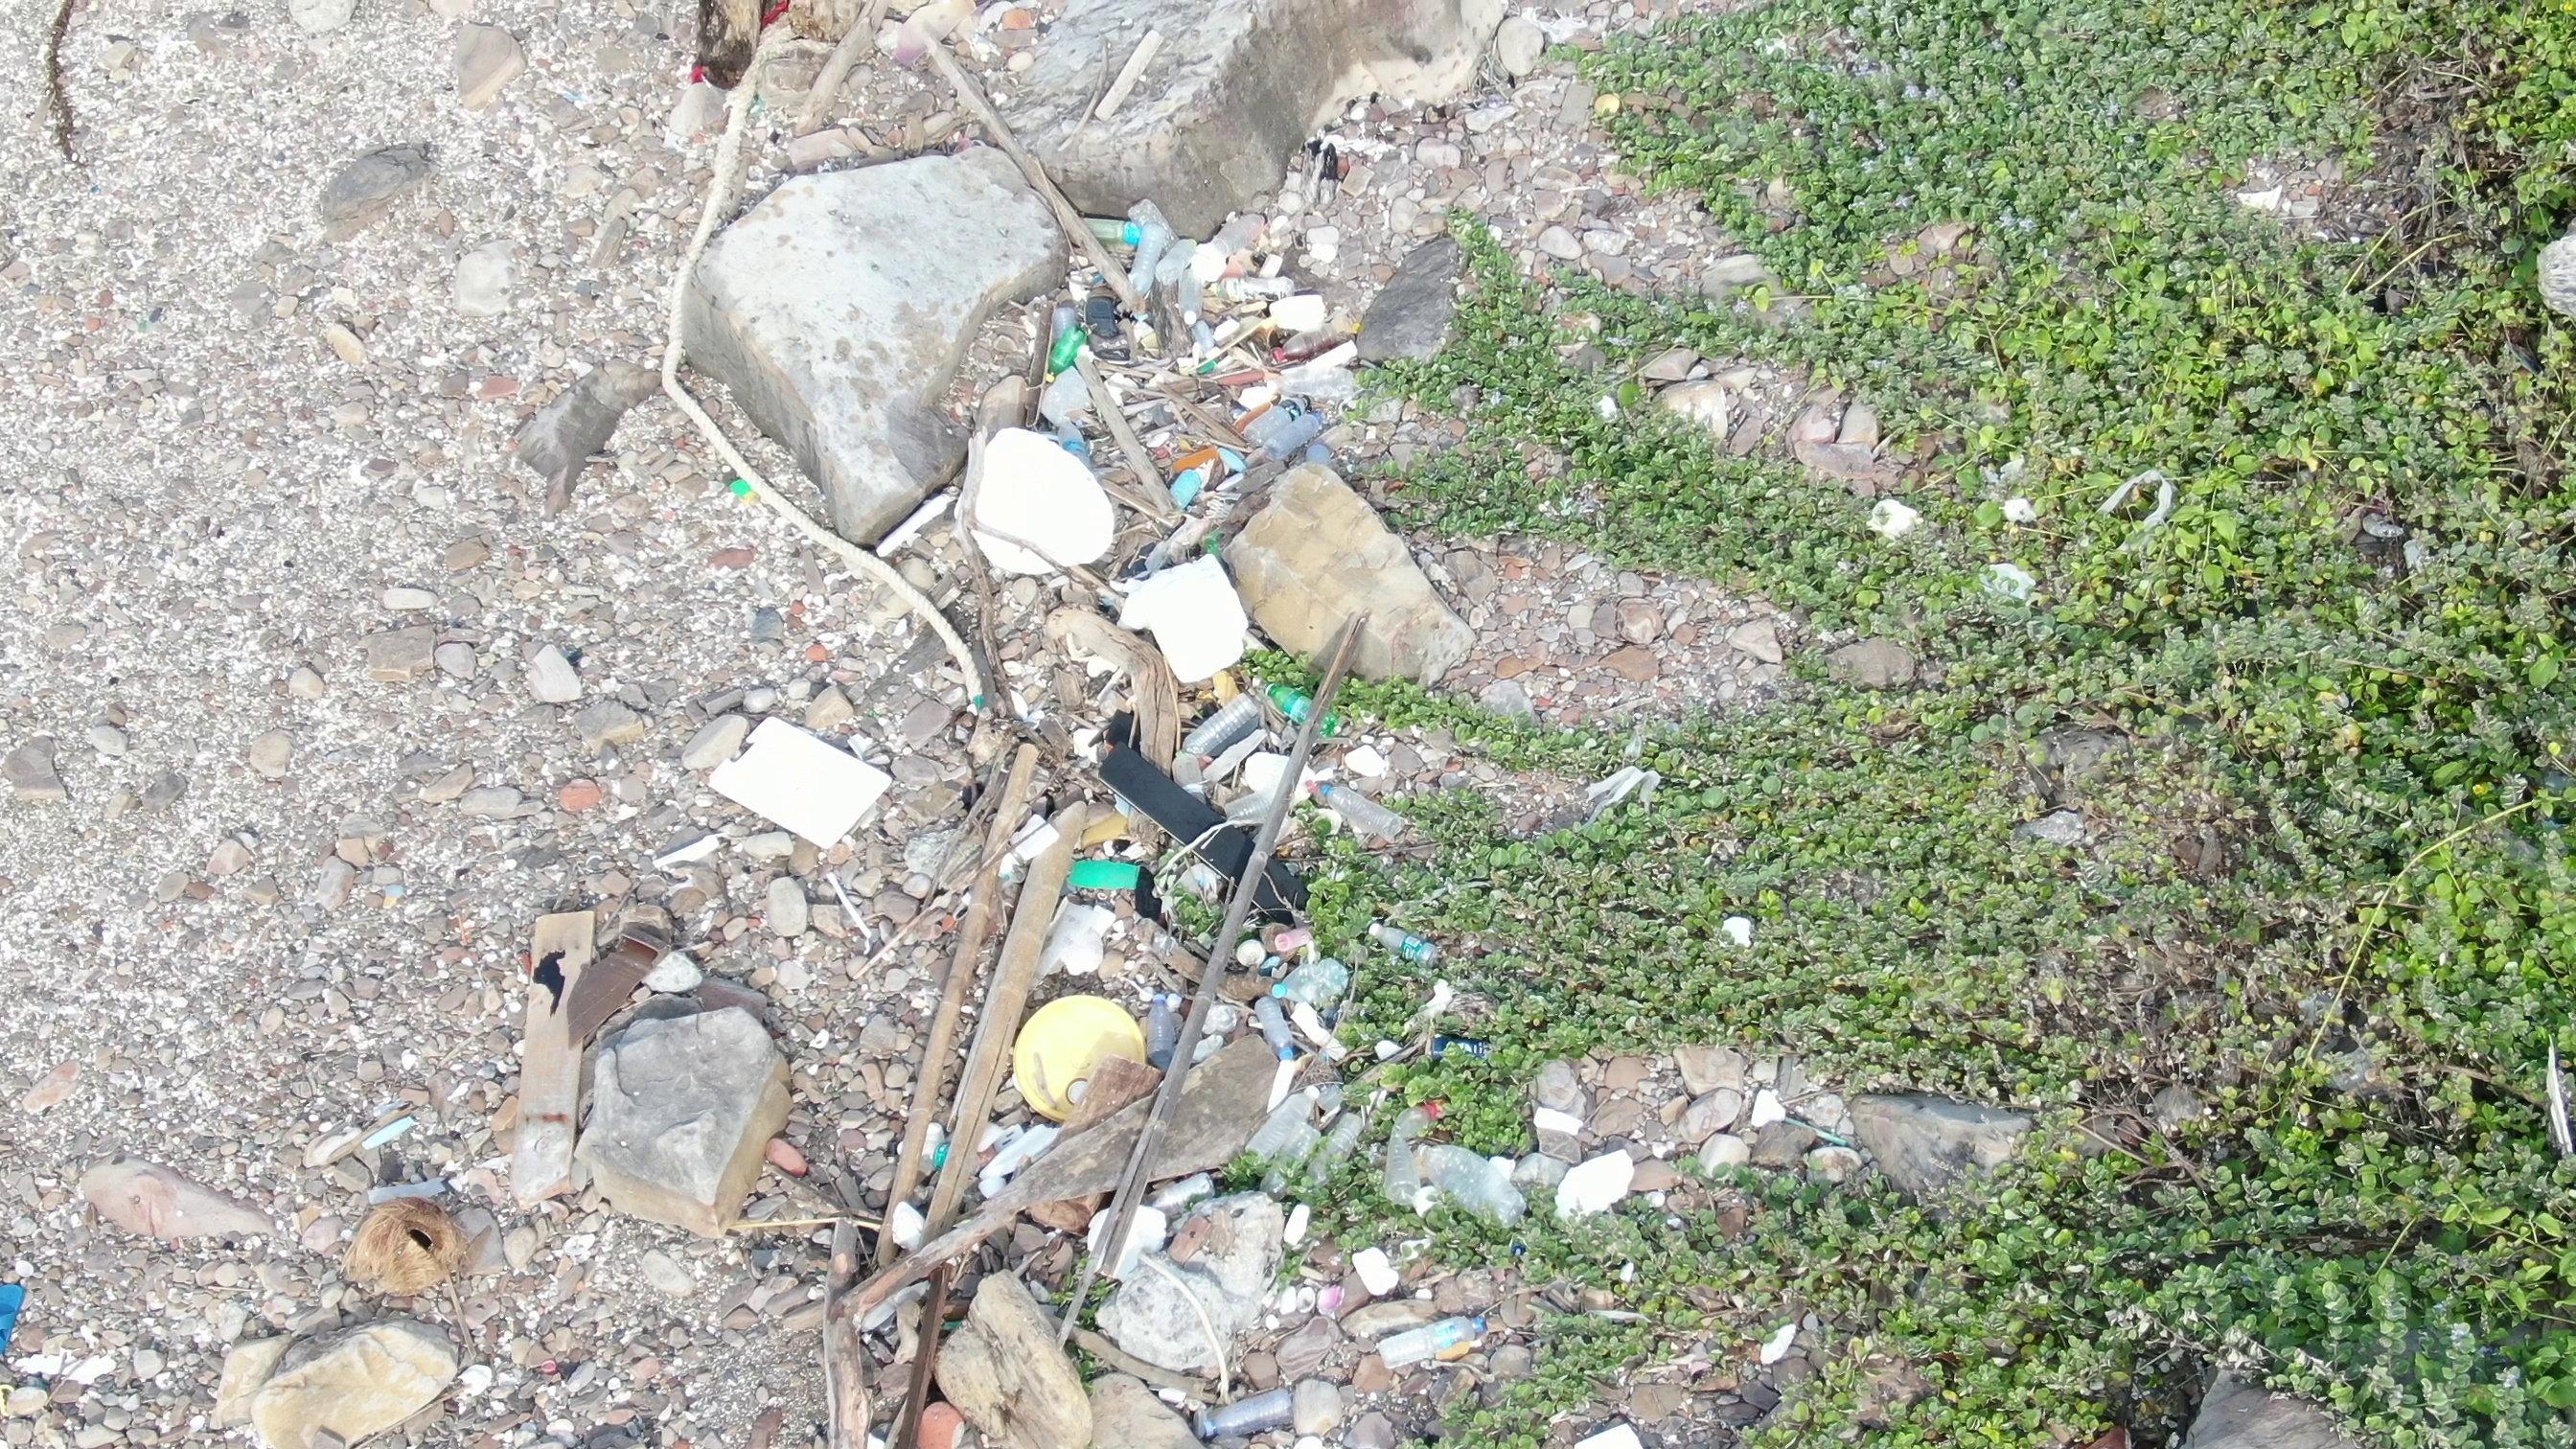bottle: (1424, 1131, 1532, 1228), (1366, 1299, 1497, 1366), (1242, 1067, 1318, 1180), (1258, 671, 1355, 743), (1258, 947, 1364, 1007), (1375, 1079, 1417, 1214), (1177, 694, 1269, 755), (1131, 994, 1189, 1086), (1072, 207, 1159, 265), (1318, 1099, 1369, 1196), (1033, 322, 1095, 402), (1364, 915, 1445, 971), (1247, 387, 1332, 441), (1168, 242, 1212, 329)
garbage: (837, 127, 1385, 1447), (635, 2, 1157, 708), (524, 902, 777, 1085), (1338, 872, 1513, 1106), (706, 709, 901, 856), (2, 1226, 55, 1382)
